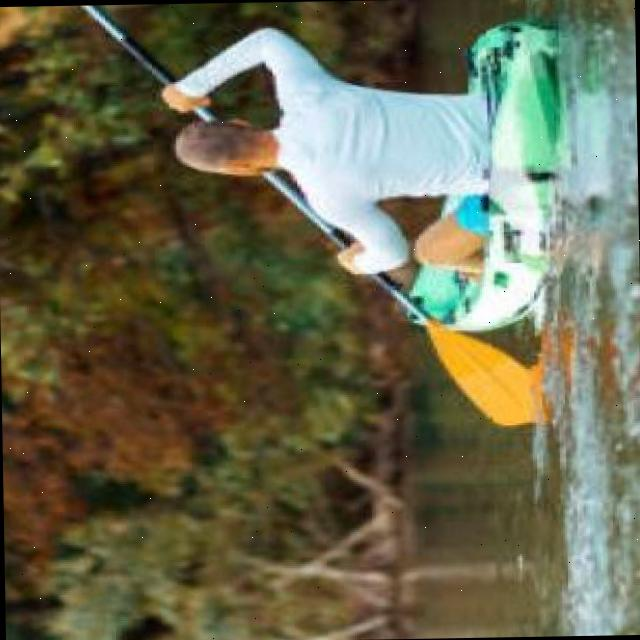kayak: (407, 17, 563, 420)
